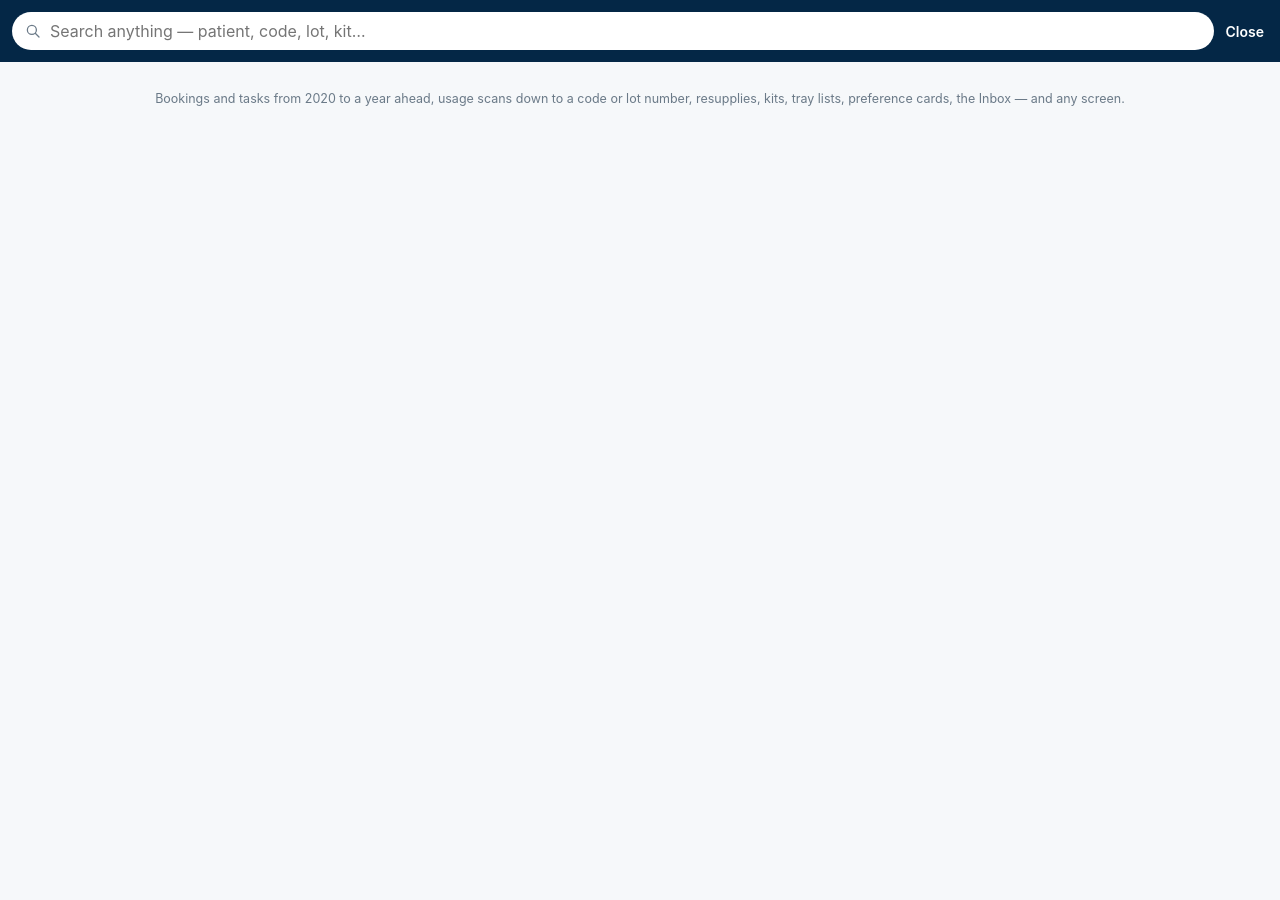
Test case: the search sheet › says so when nothing matches
In the search field: (626, 31) [50, 12, 1202, 50], type "nobody"
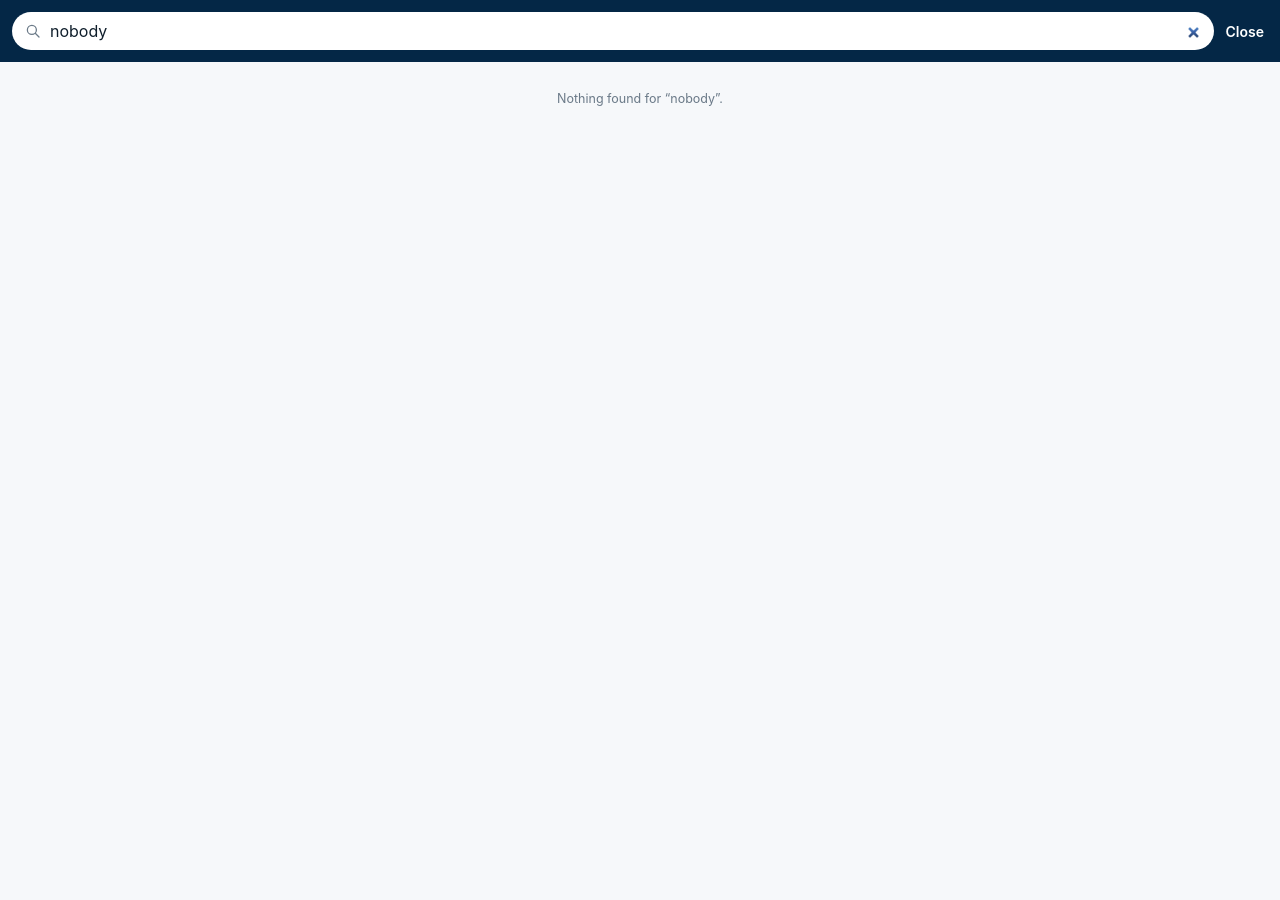
Expected: the text "Nothing found for “nobody”." is shown, [557, 91, 723, 106]
